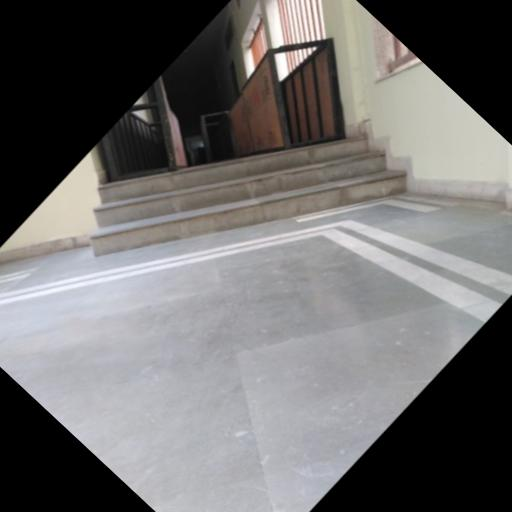stairs: (90, 138, 405, 255)
